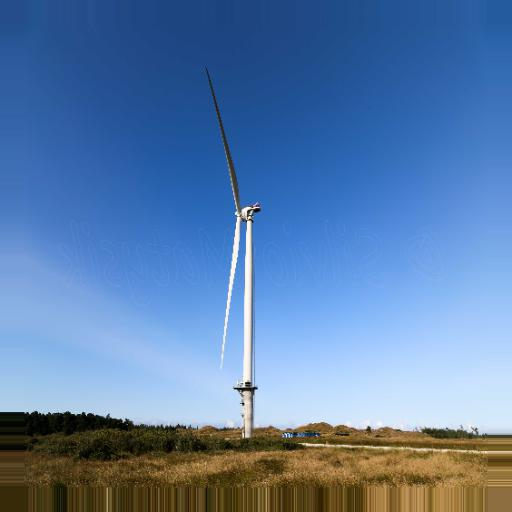wind turbine: (202, 66, 260, 444)
